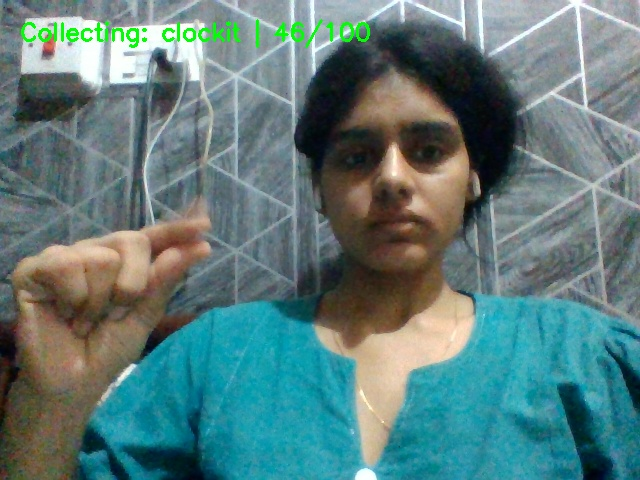clockit: (4, 192, 249, 387)
